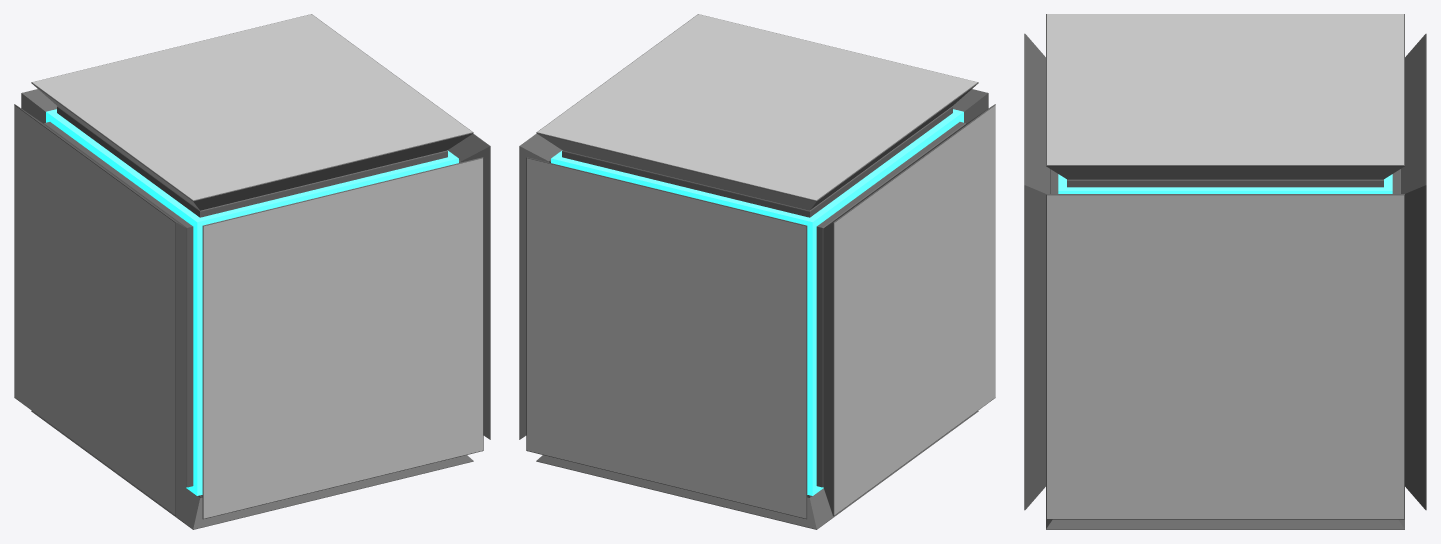
The model's file is FloatingCubeV2 1.fbx.
3 renders of one model, left to right at view 1: azimuth 30°, elevation 25°; view 2: azimuth 150°, elevation 25°; view 3: azimuth 270°, elevation 25°, orthographic. The views are drawn at different scales.
Parts seen in each view (by area): view 1: Cube; view 2: Cube; view 3: Cube.
Part boxes in pixels (x1,y1,x2,y2): Cube: (14,14,490,529); Cube: (519,14,995,529); Cube: (1024,14,1426,529).
Bounding box in the file's own units: 1203 × 1203 × 1203.
